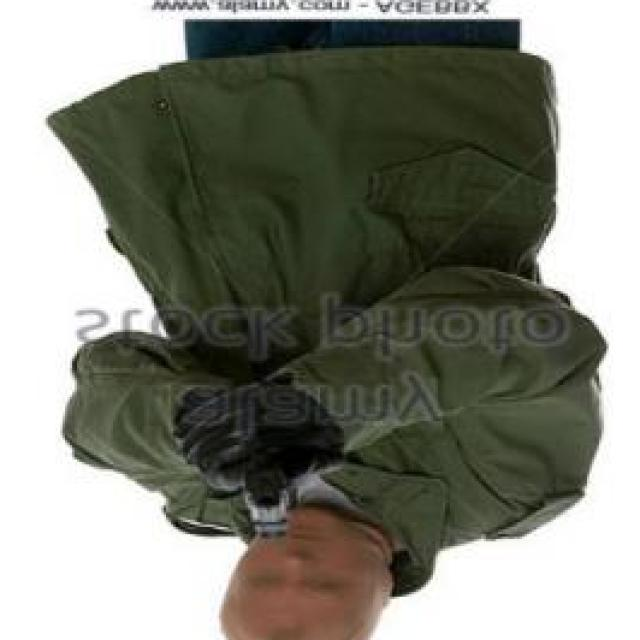pistol: (238, 448, 298, 542)
